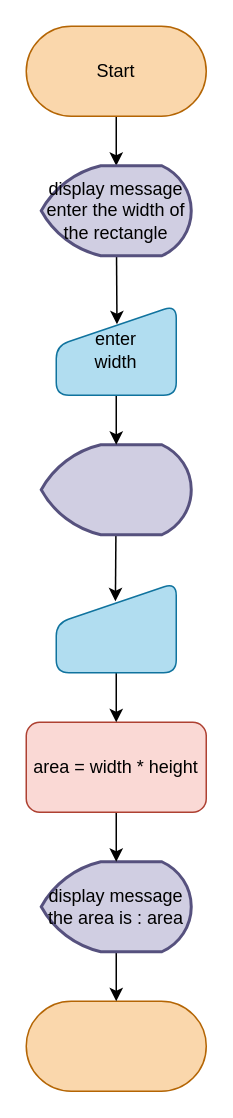
Some shapes in this 233 by 1118 pixel diagram are drawn without their labels. The centre of each missing label's shape, as x and y in pixels:
"display message enter the height of the rectangle" belongs at [115,489].
"End" belongs at [115,1045].
"enter height" belongs at [115,627].
